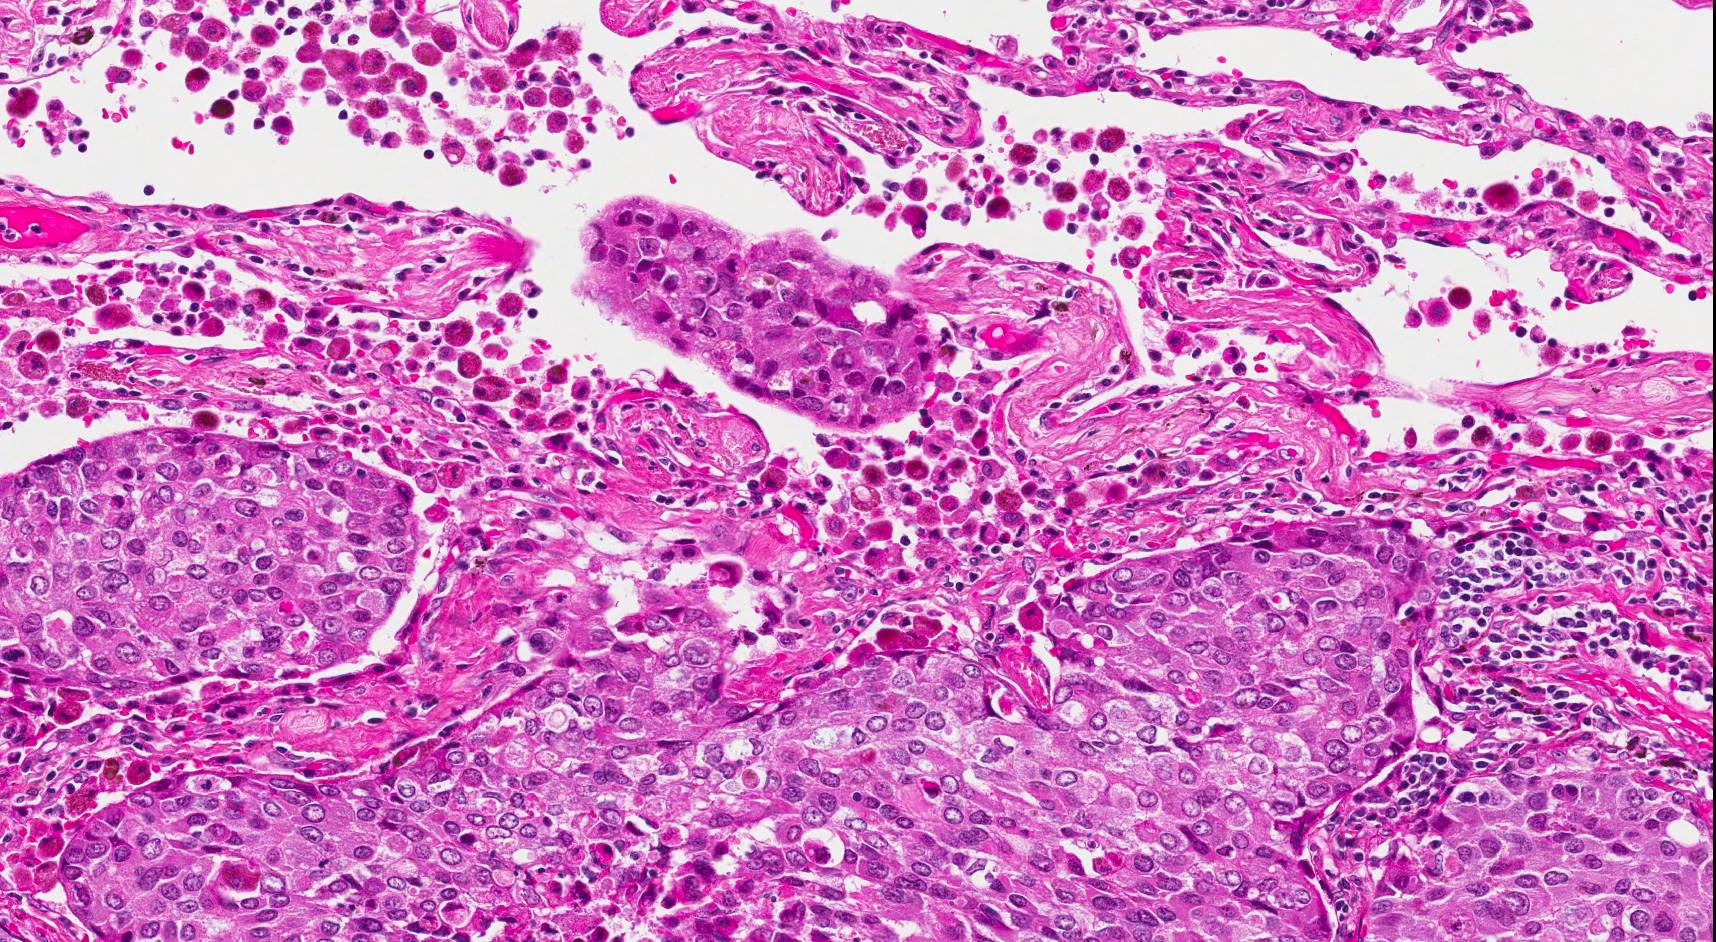stas: (569, 198, 930, 429)
